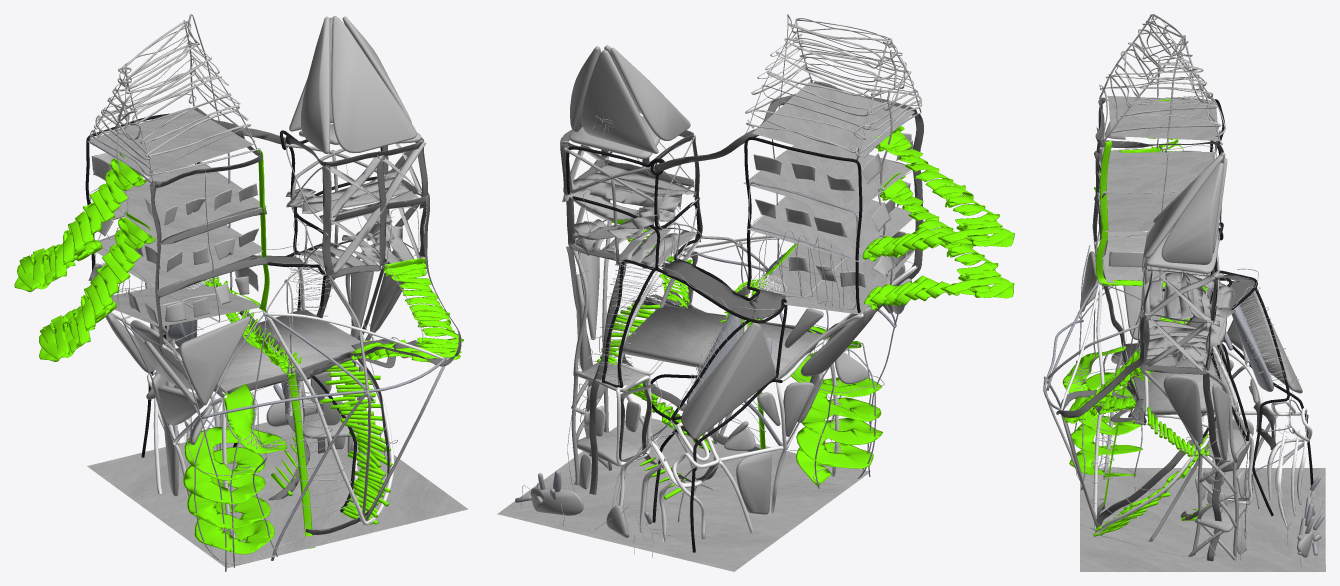
3 views of the same model, side by side, from view 1: azimuth 30°, elevation 25°; view 2: azimuth 150°, elevation 25°; view 3: azimuth 270°, elevation 25° (orthographic). The views are drawn at different scales.
Parts seen in each view (by area): view 1: BEYAZFUL; view 2: BEYAZFUL; view 3: BEYAZFUL.
Boxes of the visible parts, x1=… form: BEYAZFUL: x1=14, y1=14, x2=467, y2=571; BEYAZFUL: x1=497, y1=14, x2=1014, y2=571; BEYAZFUL: x1=1043, y1=14, x2=1325, y2=571.
Size of the model in its own units: 53.78 by 64 by 35.7.
Materials: 9 (1 with a texture image).
